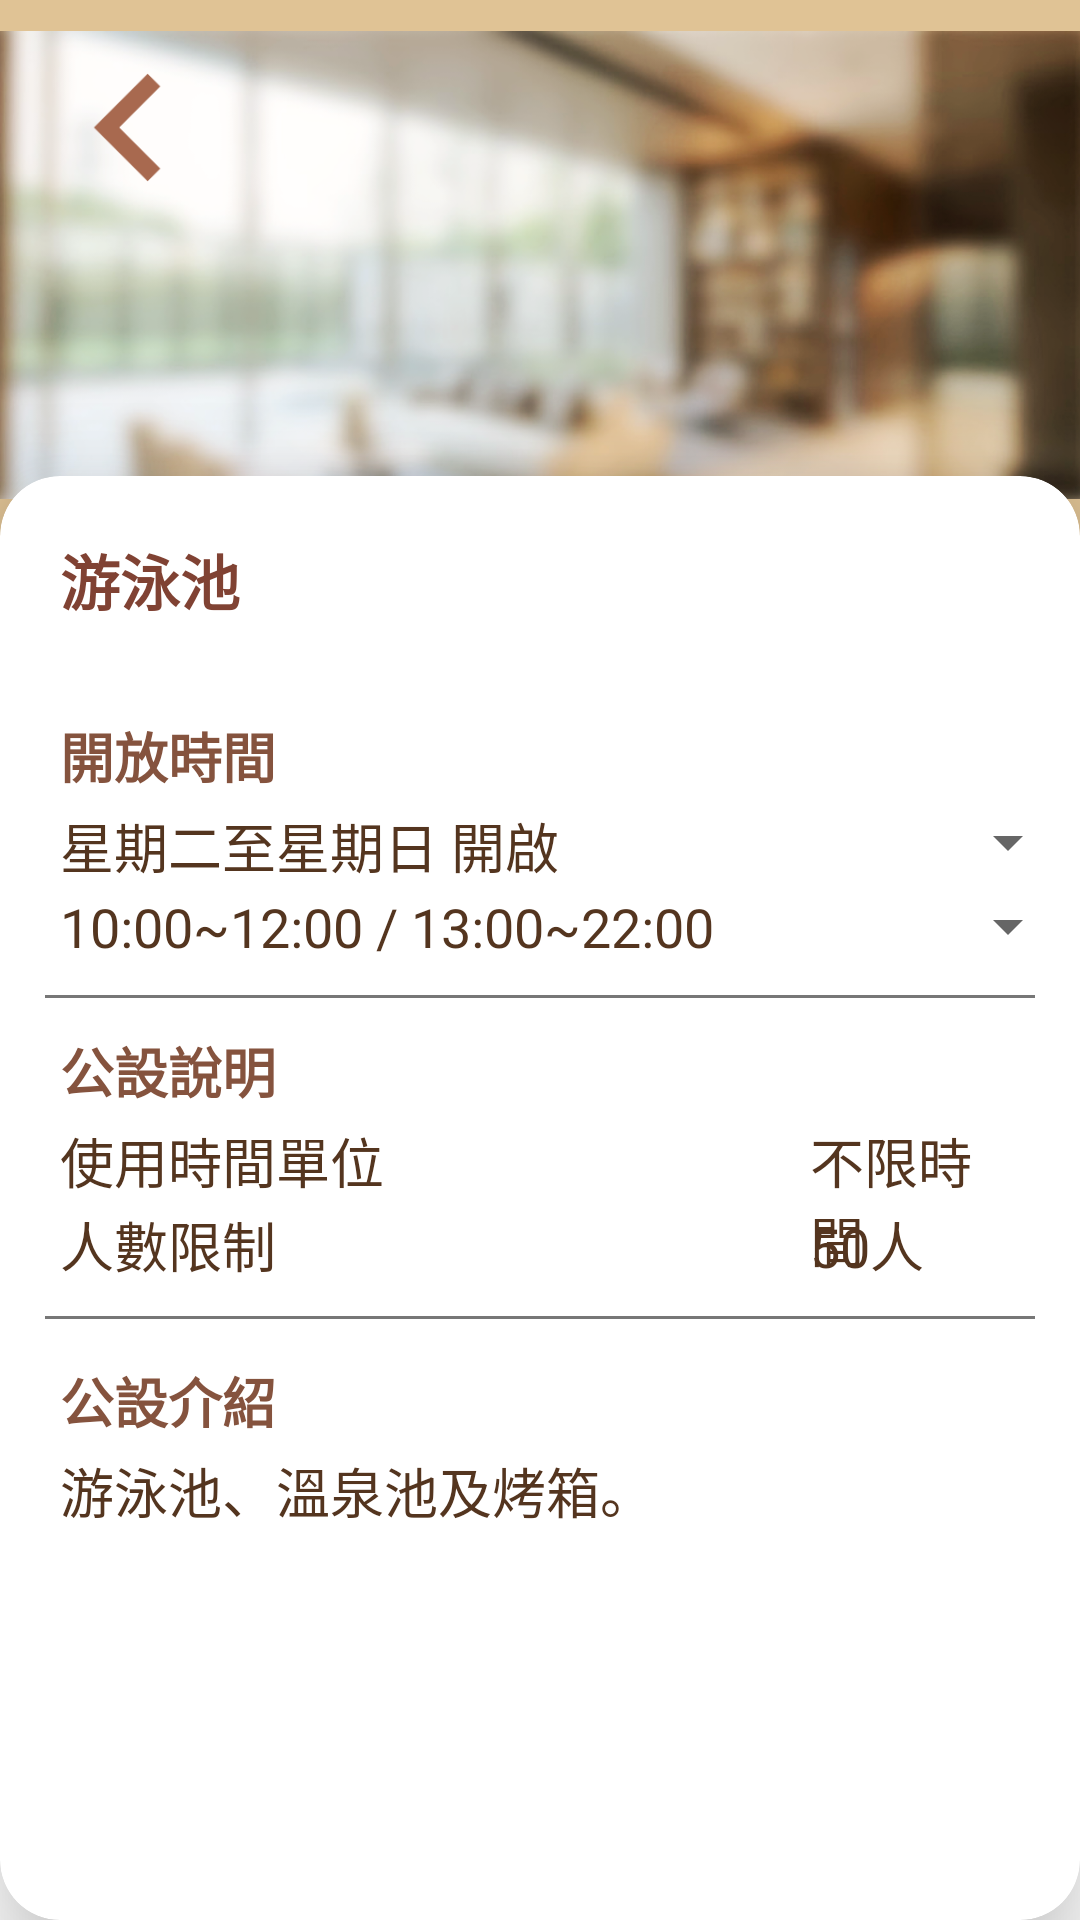

Where icons sit on this 1080x1920 app screen, as {"left": x1, "top": y1, "right": x2, "bottom": y2}:
previous page: {"left": 94, "top": 74, "right": 161, "bottom": 181}
